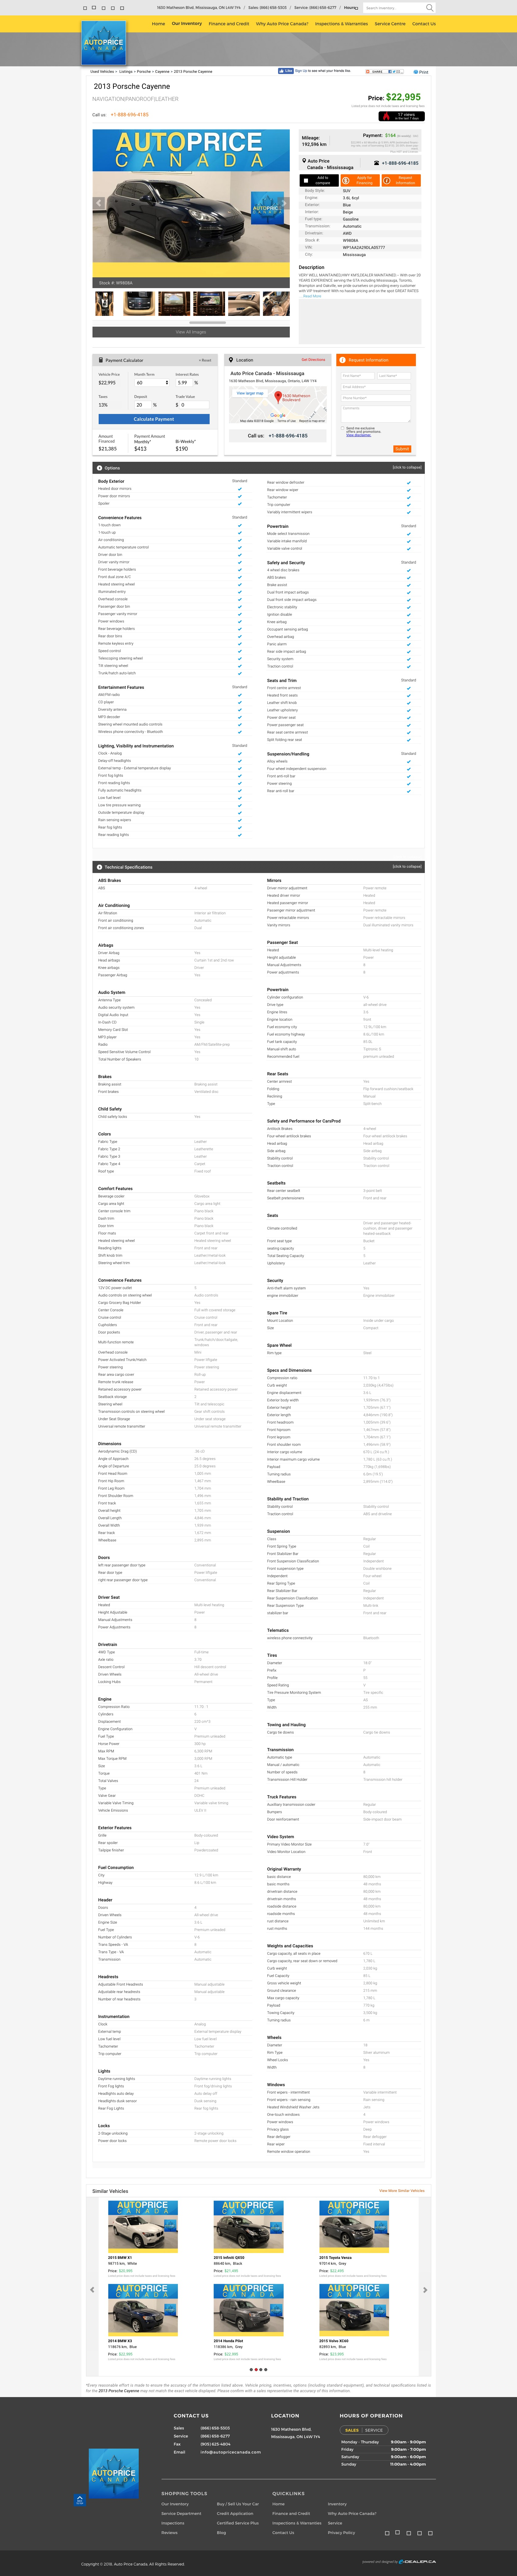car: (277, 197, 291, 210)
